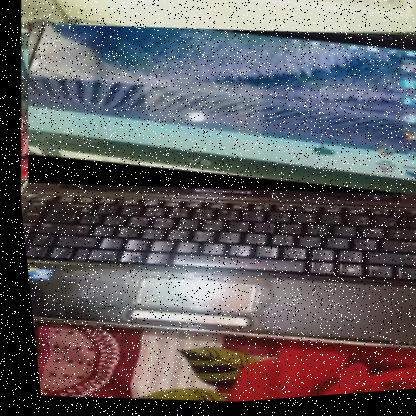Normal: (8, 0, 415, 227)
